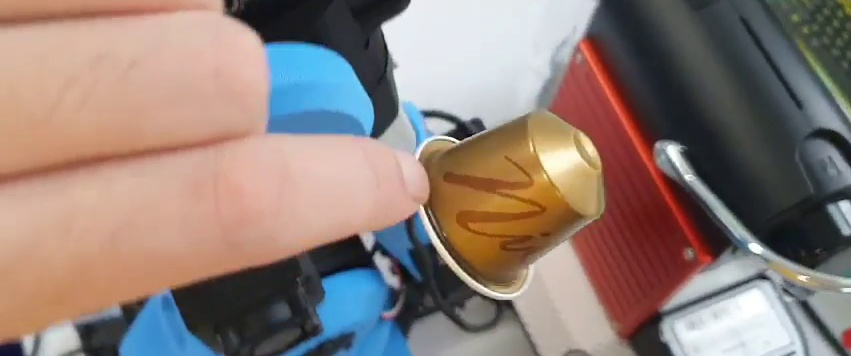capsule_9: (414, 109, 607, 302)
